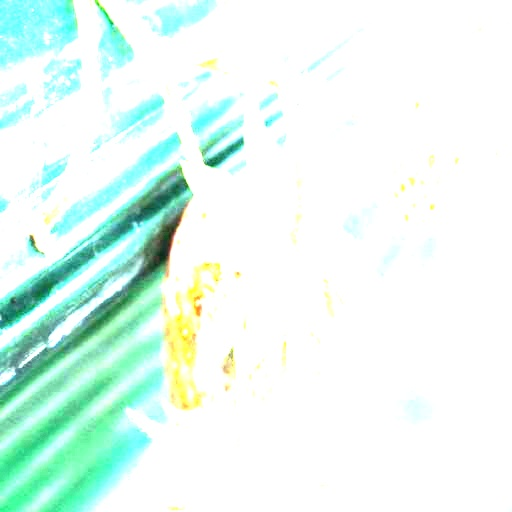Gray Mold: (163, 196, 343, 417)
